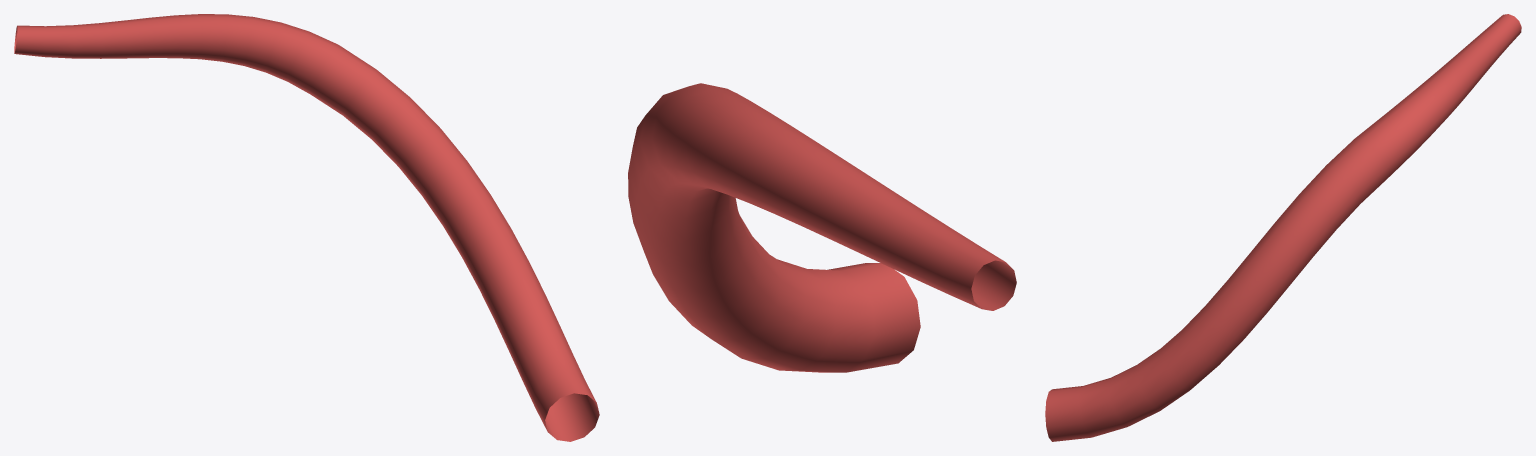
3 views of the same model, side by side, from view 1: azimuth 30°, elevation 25°; view 2: azimuth 150°, elevation 25°; view 3: azimuth 270°, elevation 25° (orthographic). The views are drawn at different scales.
Parts seen in each view (by area): view 1: 左侧腓动脉跟支; view 2: 左侧腓动脉跟支; view 3: 左侧腓动脉跟支.
Part boxes in pixels (x1,y1,x2,y2): 左侧腓动脉跟支: [14, 14, 599, 441]; 左侧腓动脉跟支: [628, 83, 1016, 372]; 左侧腓动脉跟支: [1045, 14, 1521, 441].
Bounding box in the file's own units: 0.0126 × 0.0107 × 0.0159.
